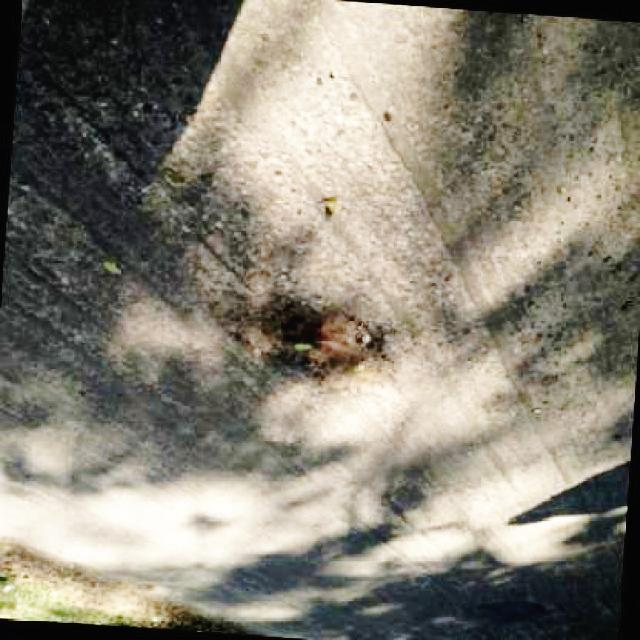pothole: (234, 297, 400, 397)
